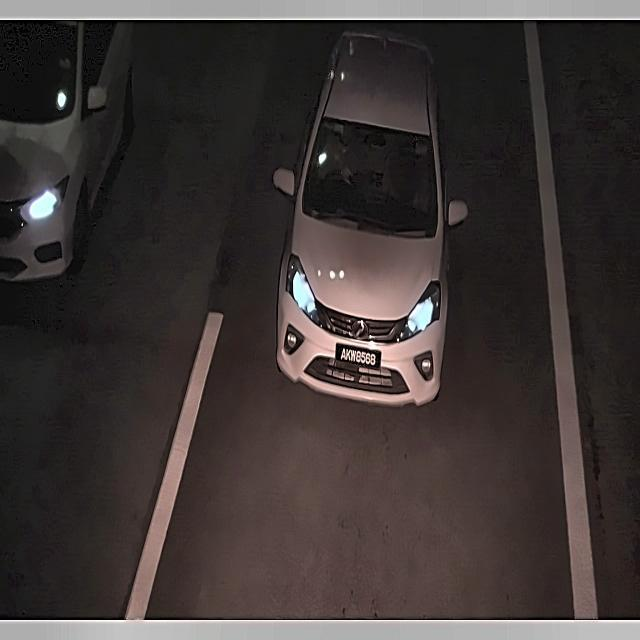car: (336, 333, 382, 375)
